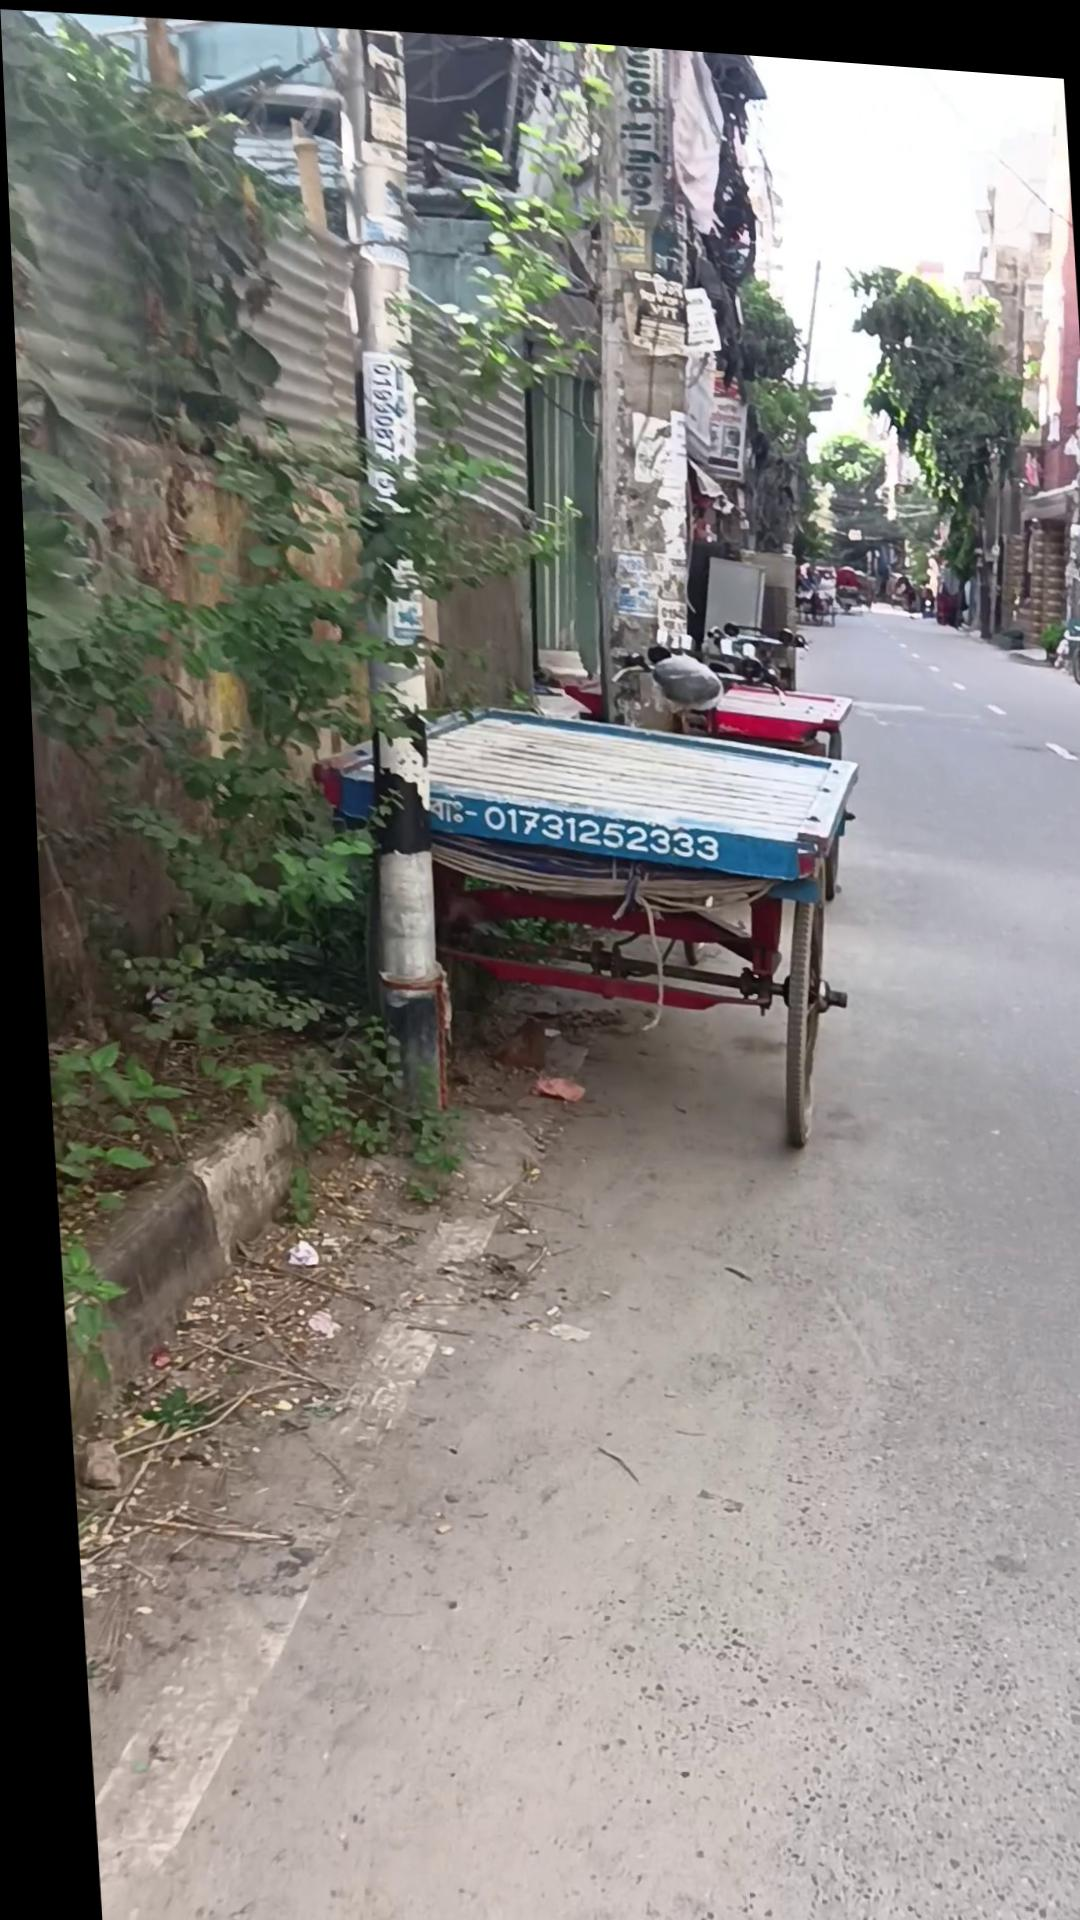Broken-road: (41, 1079, 306, 1457)
Dog: (311, 22, 462, 1129)
Fallen-tree: (1030, 604, 1060, 646)
Fence: (298, 675, 873, 1150)
Light-pole: (841, 244, 1043, 616)
